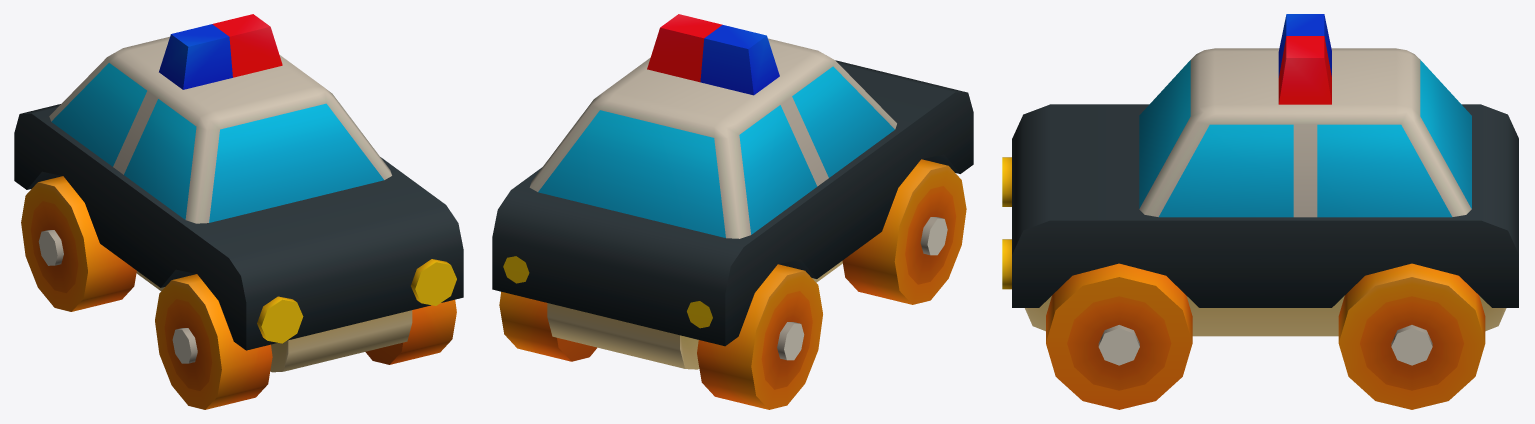
The model's file is carPolice.fbx.
3 views of the same model, side by side, from view 1: azimuth 30°, elevation 25°; view 2: azimuth 150°, elevation 25°; view 3: azimuth 270°, elevation 25° (orthographic). The views are drawn at different scales.
Parts seen in each view (by area): view 1: carPolice; view 2: carPolice; view 3: carPolice.
Part boxes in pixels (<box>): carPolice: <box>14,14,463,409</box>; carPolice: <box>492,14,973,409</box>; carPolice: <box>1002,14,1518,409</box>.
Size of the model in its own units: 9.2 by 10.1 by 15.23.
